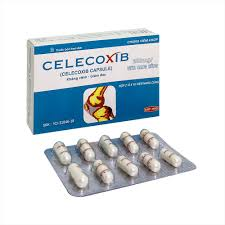Celecoxip: (42, 53, 127, 71)
